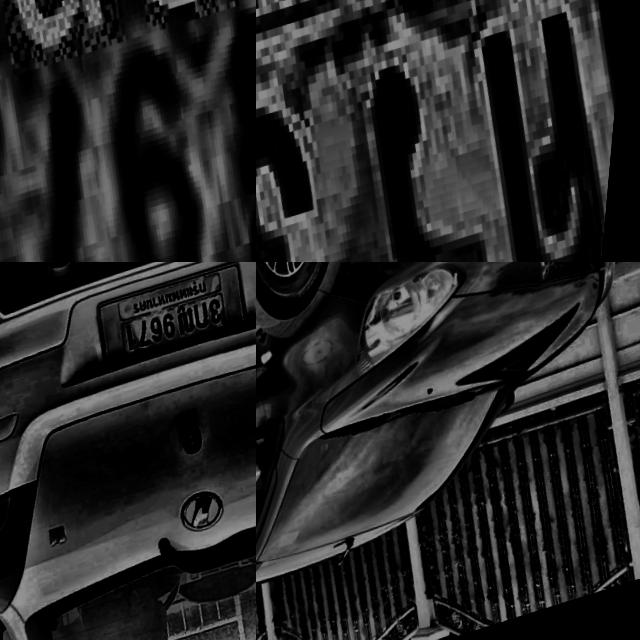license-plate: (256, 0, 640, 262), (0, 0, 256, 262), (87, 262, 256, 381)
